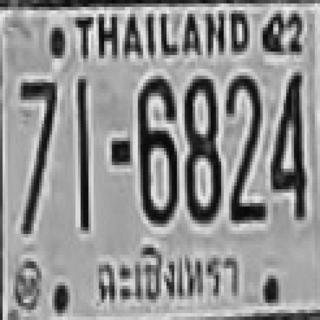N02: (225, 72, 262, 203)
N04: (268, 69, 304, 217)
N06: (136, 74, 176, 222)
N07: (18, 79, 55, 182), (18, 79, 55, 165)
N08: (182, 72, 218, 220)
P07: (83, 240, 242, 314)
